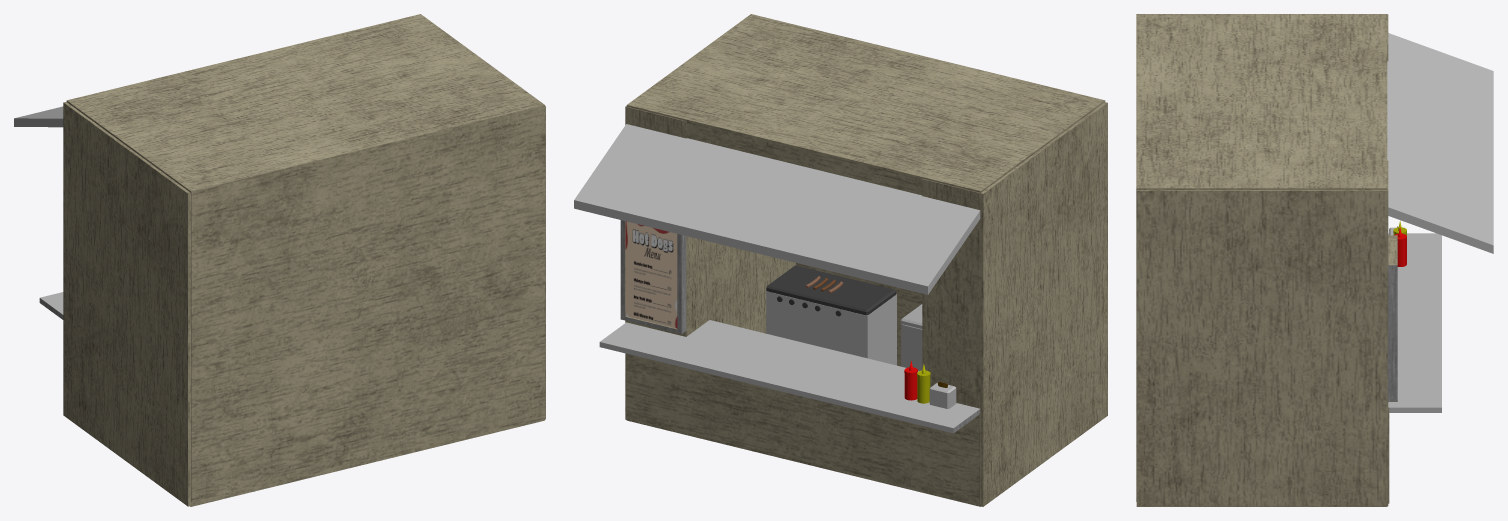
File: shop9.fbx
3 renders of one model, left to right at view 1: azimuth 30°, elevation 25°; view 2: azimuth 150°, elevation 25°; view 3: azimuth 270°, elevation 25°, orthographic.
Parts seen in each view (by area): view 1: polySurface168; view 2: polySurface168; view 3: polySurface168.
Boxes of the visible parts, x1,y1,x2,y2 form: polySurface168: (14, 14, 545, 506); polySurface168: (574, 14, 1107, 506); polySurface168: (1136, 14, 1493, 506).
Bounding box in the file's own units: 4.8 × 4.05 × 4.12.
Materials: 10 (1 with a texture image).
